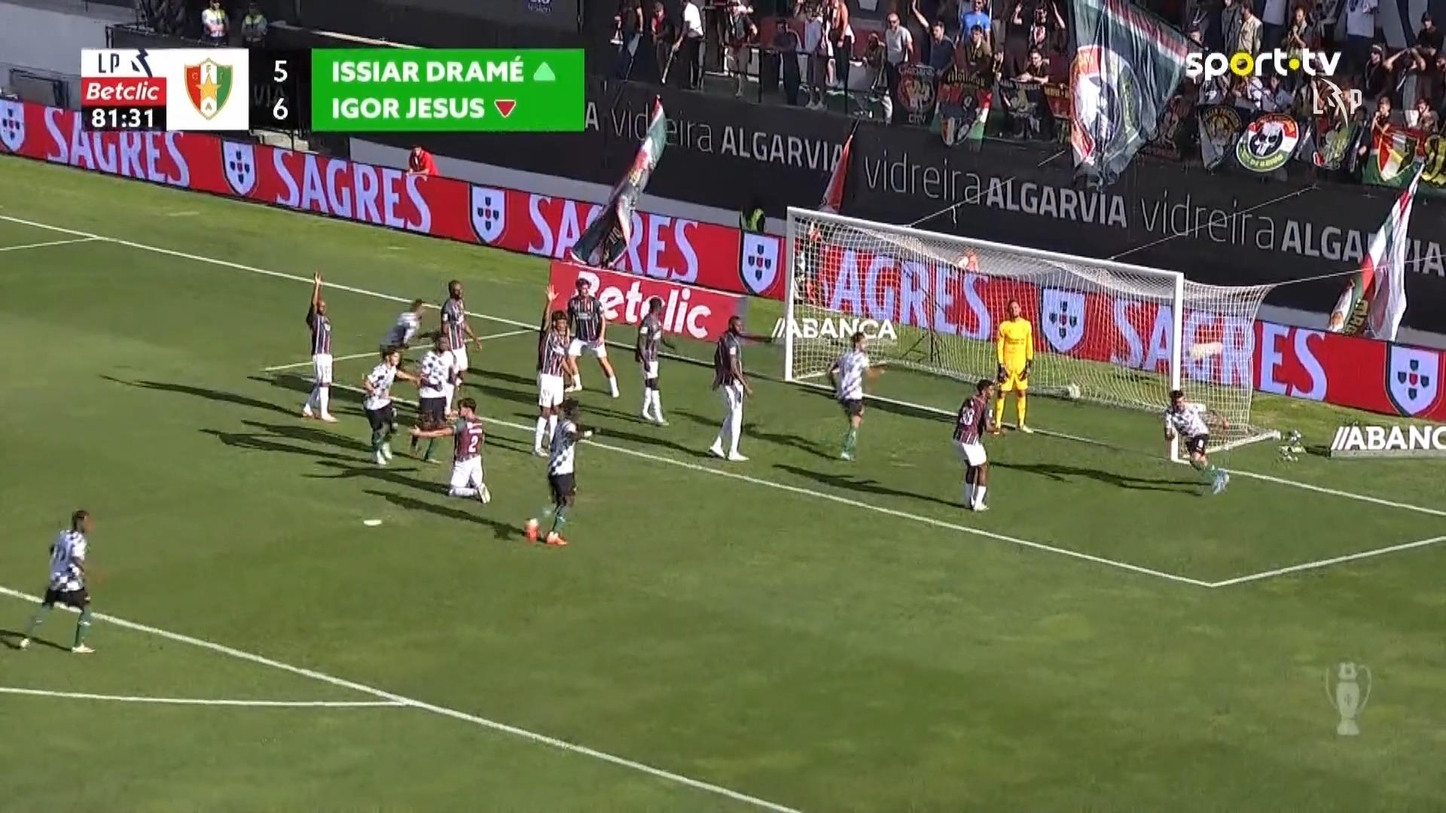ball: (1065, 382, 1081, 399)
player: (17, 508, 96, 653), (409, 397, 491, 504), (825, 330, 889, 461), (541, 397, 596, 546), (1162, 388, 1231, 495), (532, 286, 575, 457), (361, 345, 421, 466), (562, 276, 620, 398), (706, 314, 754, 461), (950, 377, 1002, 512), (411, 328, 459, 463), (990, 298, 1035, 435), (300, 270, 339, 422), (633, 294, 669, 426), (438, 279, 481, 388), (379, 297, 426, 362)
